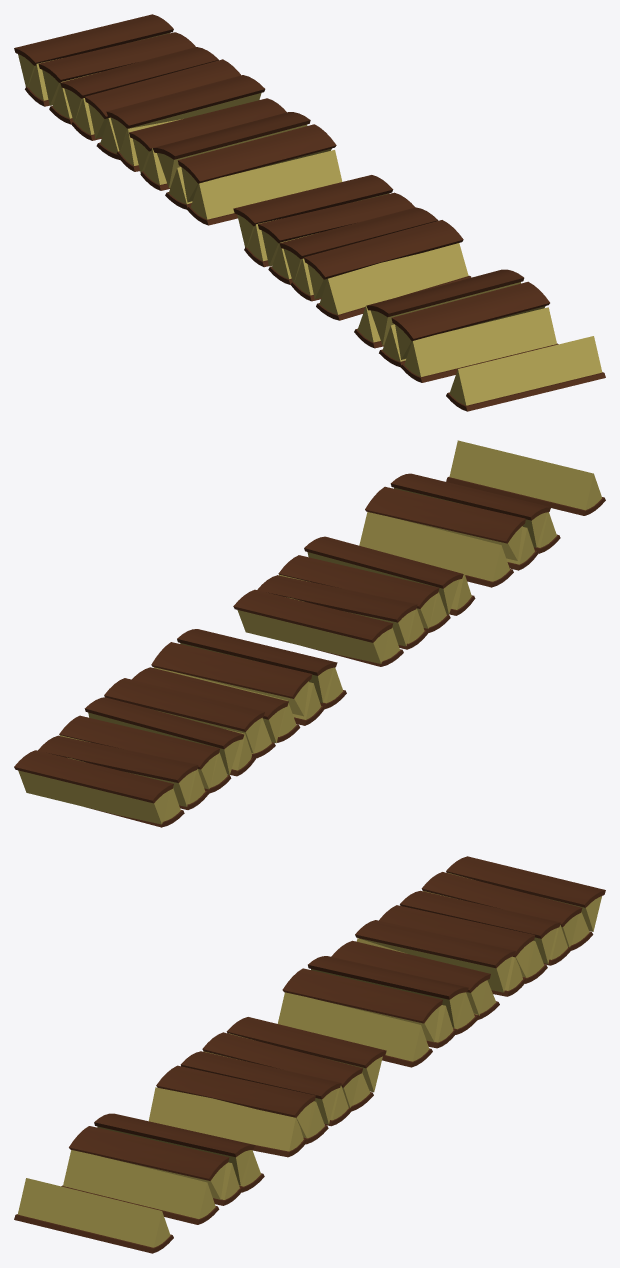
File: WoodPiles.fbx
The picture shows the model from 3 angles, top to bottom: view 1: azimuth 30°, elevation 25°; view 2: azimuth 150°, elevation 25°; view 3: azimuth 330°, elevation 25°; orthographic projection.
Visible parts, largest first — view 1: Cube.002, Cube.025, Cube.017, Cube, Cube.029, Cube.016, Cube.024, Cube.013, Cube.009, Cube.021, Cube.010, Cube.022 (+17 smaller); view 2: Cube.009, Cube.021, Cube.002, Cube.027, Cube.015, Cube.028, Cube.013, Cube.011, Cube.023, Cube.024, Cube.012, Cube.010 (+15 smaller); view 3: Cube.002, Cube.025, Cube.017, Cube, Cube.016, Cube.029, Cube.013, Cube.024, Cube.021, Cube.009, Cube.010, Cube.022 (+15 smaller).
Part boxes in pixels (bbox=[...]): Cube.002: bbox=[446, 336, 605, 411]; Cube.025: bbox=[400, 307, 558, 382]; Cube.017: bbox=[316, 243, 471, 320]; Cube: bbox=[187, 150, 342, 225]; Cube.029: bbox=[391, 281, 549, 359]; Cube.016: bbox=[178, 124, 336, 202]; Cube.024: bbox=[304, 220, 463, 299]; Cube.013: bbox=[106, 75, 265, 152]; Cube.009: bbox=[14, 14, 173, 87]; Cube.021: bbox=[233, 175, 393, 247]; Cube.010: bbox=[38, 32, 195, 105]; Cube.022: bbox=[258, 192, 415, 266]; Cube.009: bbox=[14, 750, 173, 824]; Cube.021: bbox=[233, 589, 393, 663]; Cube.002: bbox=[446, 440, 605, 515]; Cube.027: bbox=[359, 512, 513, 587]; Cube.015: bbox=[151, 642, 312, 716]; Cube.028: bbox=[365, 486, 525, 560]; Cube.013: bbox=[104, 678, 264, 753]; Cube.011: bbox=[59, 715, 219, 789]; Cube.023: bbox=[278, 555, 439, 628]; Cube.024: bbox=[304, 536, 463, 614]; Cube.012: bbox=[84, 697, 244, 775]; Cube.010: bbox=[38, 735, 198, 806]; Cube.002: bbox=[14, 1178, 173, 1253]; Cube.025: bbox=[61, 1150, 219, 1224]; Cube.017: bbox=[148, 1087, 306, 1157]; Cube: bbox=[277, 992, 432, 1067]; Cube.016: bbox=[282, 968, 442, 1042]; Cube.029: bbox=[69, 1126, 229, 1199]; Cube.013: bbox=[355, 920, 515, 992]; Cube.024: bbox=[156, 1065, 315, 1137]; Cube.021: bbox=[226, 1017, 386, 1092]; Cube.009: bbox=[446, 856, 605, 931]; Cube.010: bbox=[421, 872, 582, 947]; Cube.022: bbox=[202, 1032, 362, 1107].
Size of the model in its own units: 386 by 128 by 2150.
